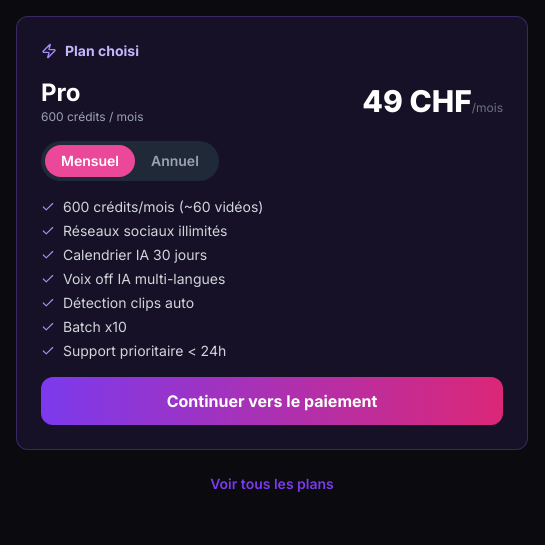
Test: Page de facturation › présélection : AUCUN paiement lancé au montage, seulement au clic
Click the button "Annuel" at (175, 161), box [135,145,215,177]
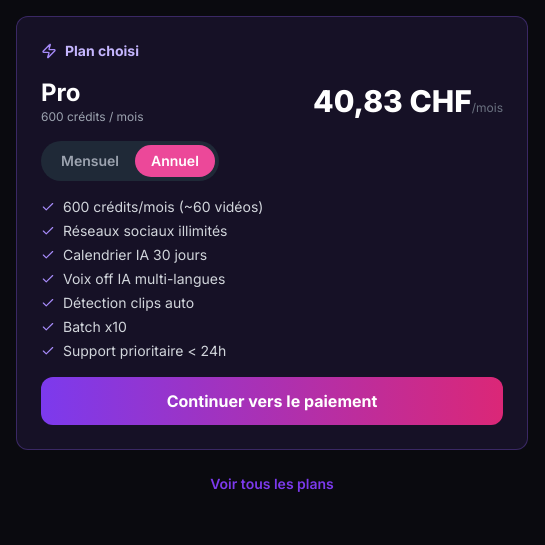
Click the button "Continuer vers le paiement" at (272, 401), box [41,377,503,425]
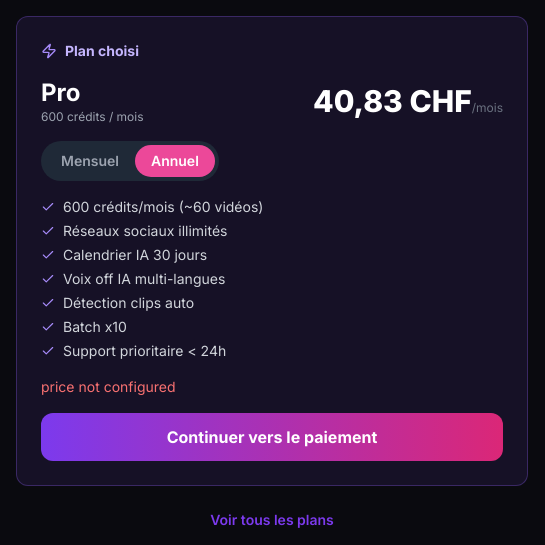
Now the message reads "price not configured", box [41,378,176,395]
